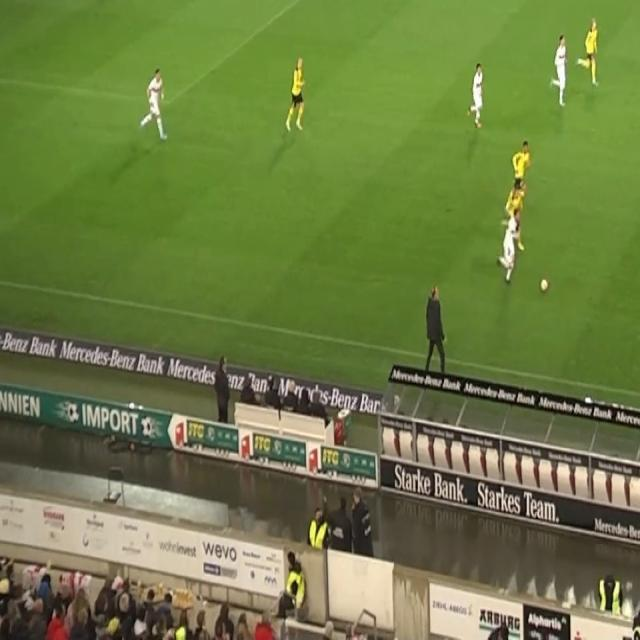ball: (539, 276, 549, 294)
